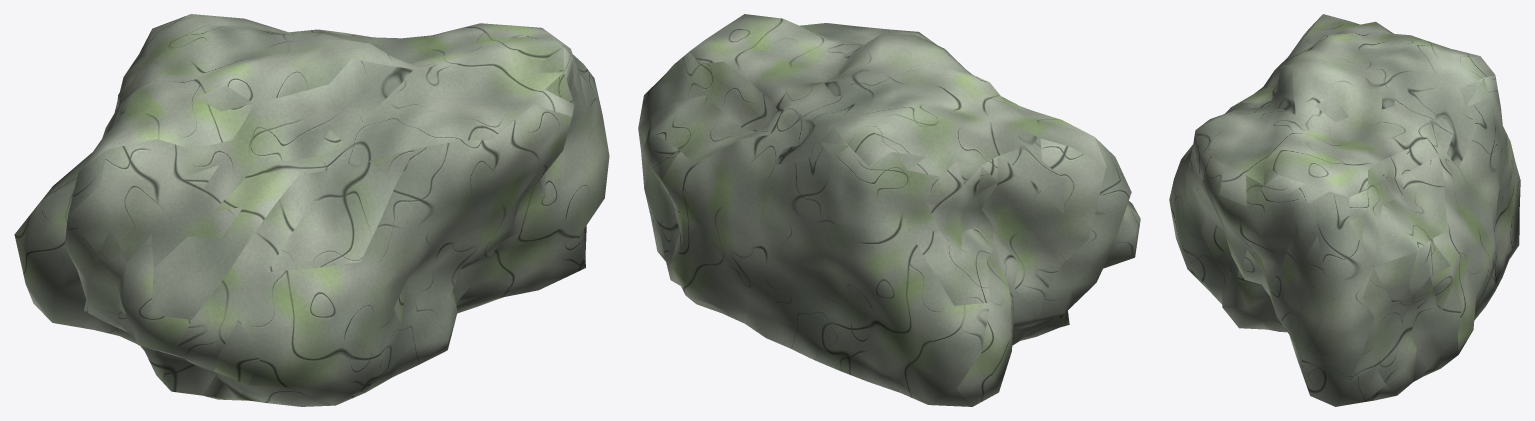
File: cliff_rock_b.glb
3 views of the same model, side by side, from view 1: azimuth 30°, elevation 25°; view 2: azimuth 150°, elevation 25°; view 3: azimuth 270°, elevation 25° (orthographic). The views are drawn at different scales.
Parts seen in each view (by area): view 1: cliff_rock_b; view 2: cliff_rock_b; view 3: cliff_rock_b.
Part boxes in pixels (bbox=[...]): cliff_rock_b: bbox=[14, 14, 609, 406]; cliff_rock_b: bbox=[638, 14, 1140, 406]; cliff_rock_b: bbox=[1169, 14, 1520, 406].
Bounding box in the file's own units: 3.84 × 1.95 × 2.56.
Materials: 1 (1 with a texture image).
